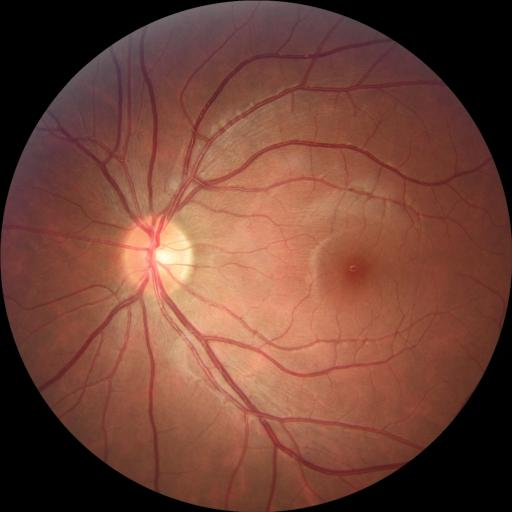Optic Cup: (151, 245, 178, 274)
Optic Disc: (125, 214, 193, 296)
